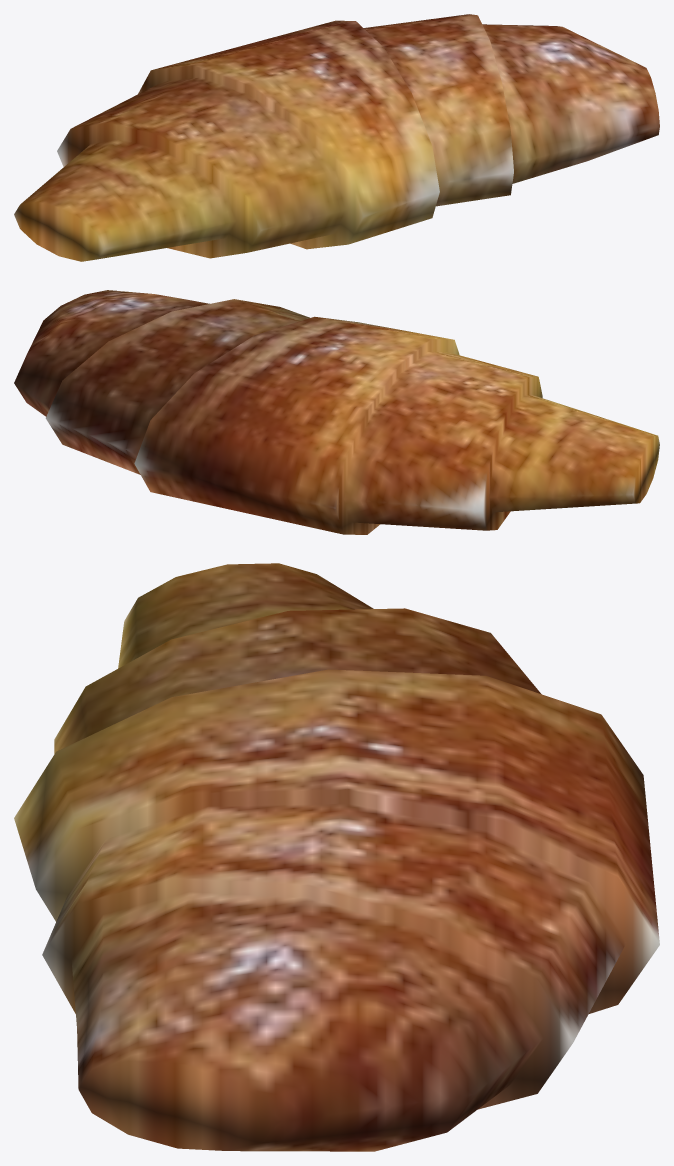
File: Croissant.dae
3 views of the same model, one above another, from view 1: azimuth 30°, elevation 25°; view 2: azimuth 150°, elevation 25°; view 3: azimuth 270°, elevation 25° (orthographic). The views are drawn at different scales.
Parts seen in each view (by area): view 1: Groupe_1 (×5); view 2: Groupe_1 (×5); view 3: Groupe_1 (×5).
Part boxes in pixels (x1,y1,x2,y2): Groupe_1 (×5): [14, 14, 659, 261]; Groupe_1 (×5): [14, 290, 659, 534]; Groupe_1 (×5): [14, 563, 659, 1151].
Bounding box in the file's own units: 4.36 × 2.25 × 0.9779.
1 material, 1 textured.
